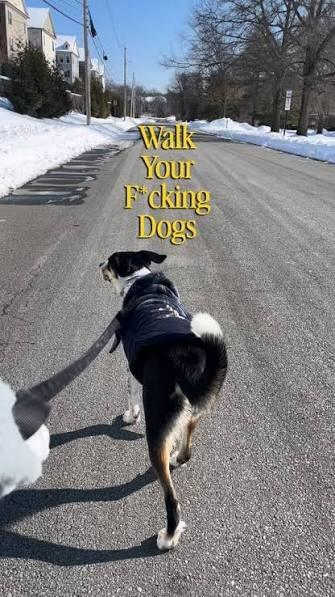adult_dog: (98, 250, 230, 550)
